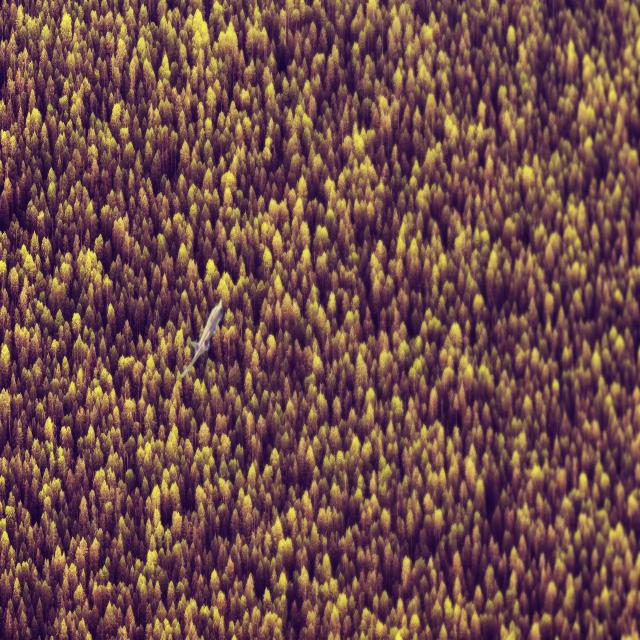airplane: (178, 298, 224, 380)
